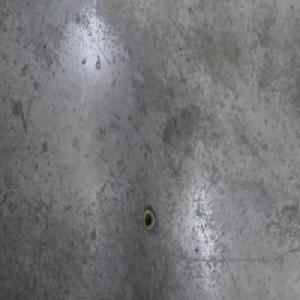Nut: (141, 207, 155, 233)
